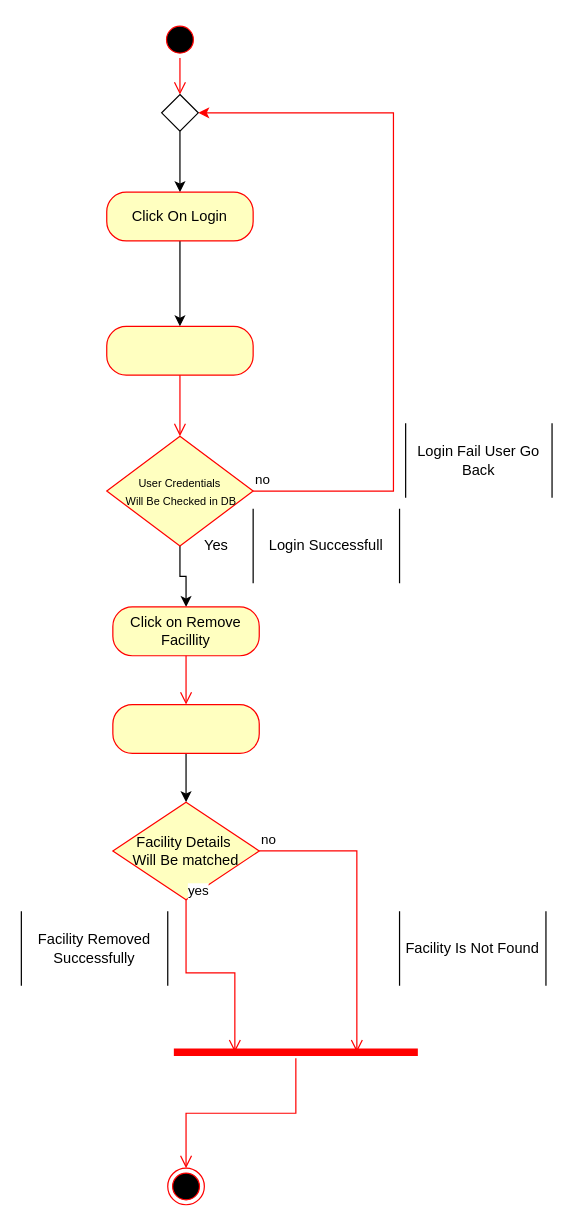
Image size: 573x1226. Some labels were removed from this diagram. Here are the shapes that lost their labels. From the top down, the centre of each, then its label:
the point at 179,350: User Enter Credentials
the point at 185,728: Enter Facility Details to Remove
